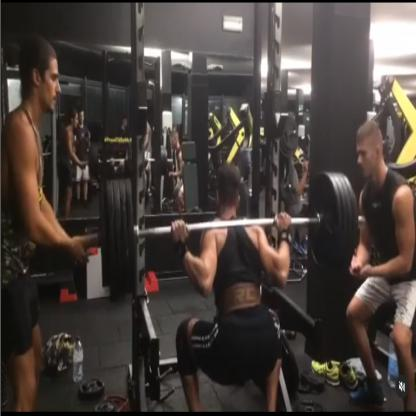barbell: (98, 179, 136, 290), (312, 172, 358, 259)
